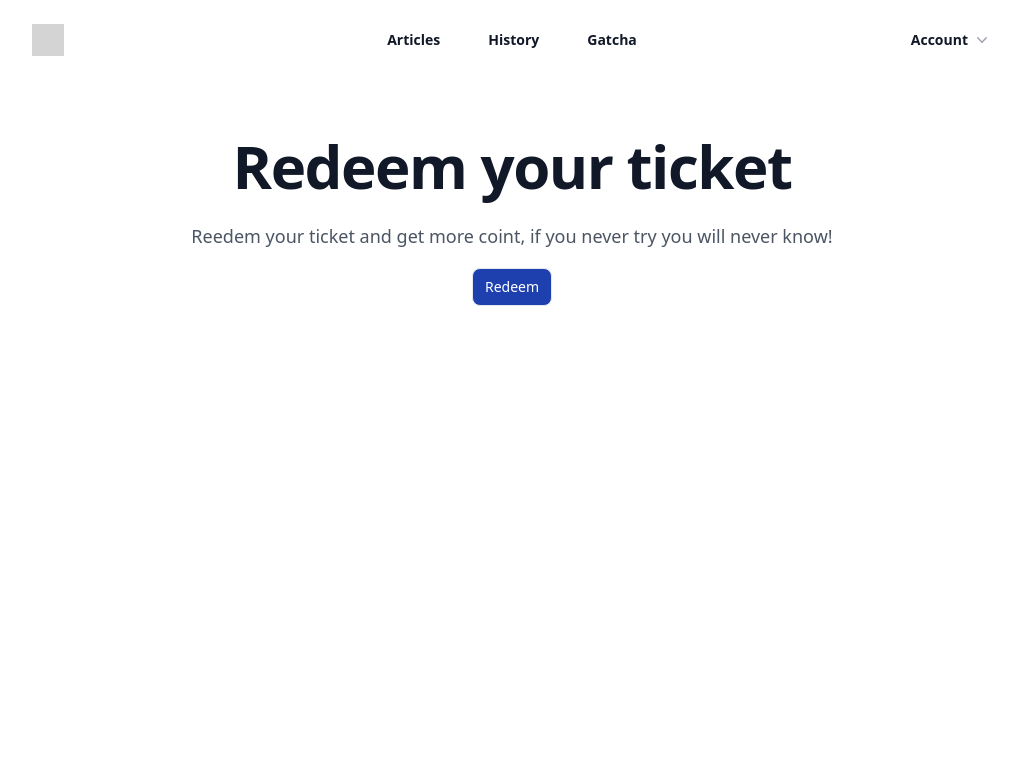
Scenario: GatchaPage › handles button click and shows empty ticket
Click the button "Redeem" at (512, 287), box [472, 268, 552, 306]
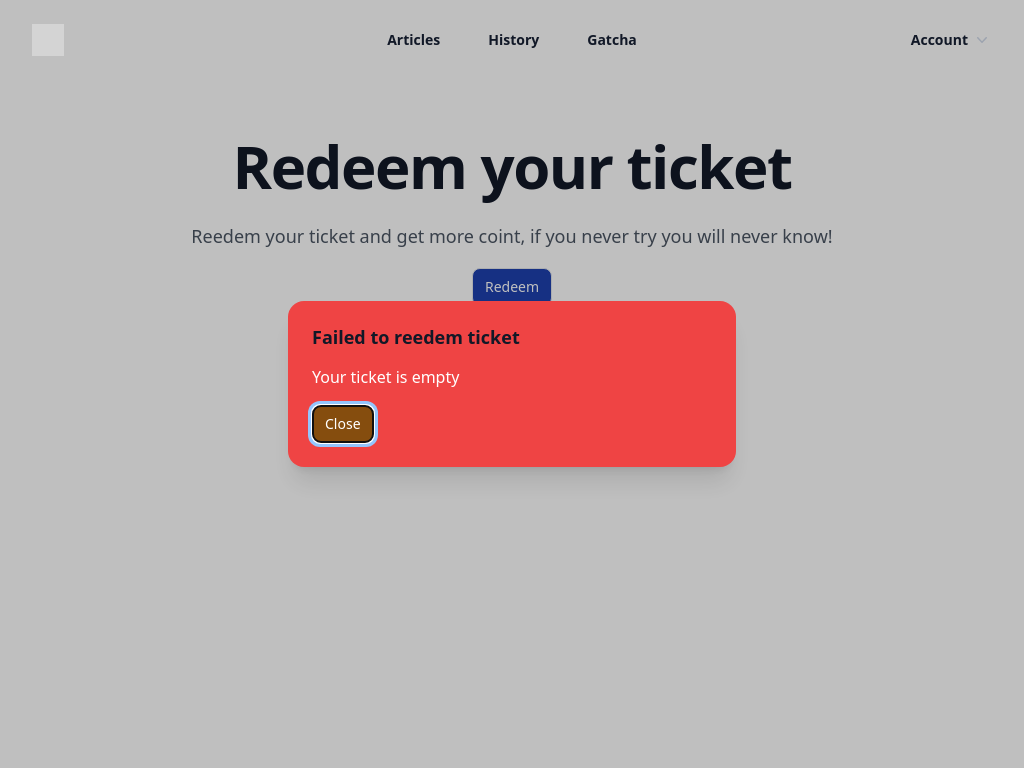
Result: the text "Your ticket is empty" is shown at [312, 366, 459, 388]
